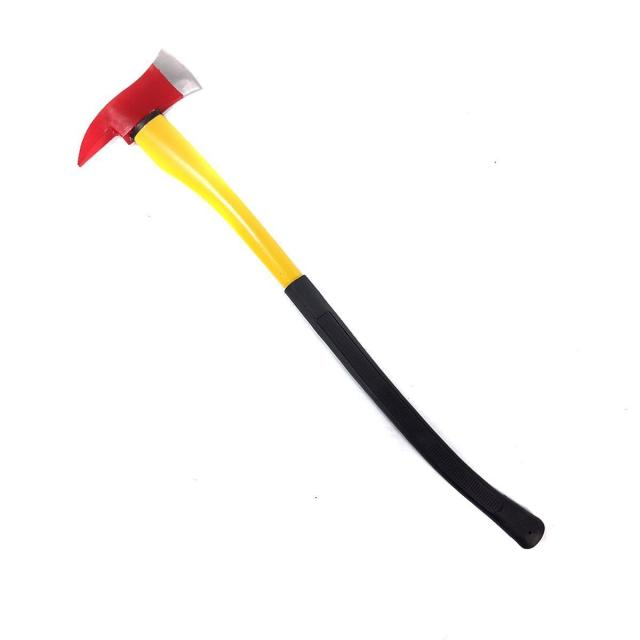Kapak: (87, 47, 532, 550)
